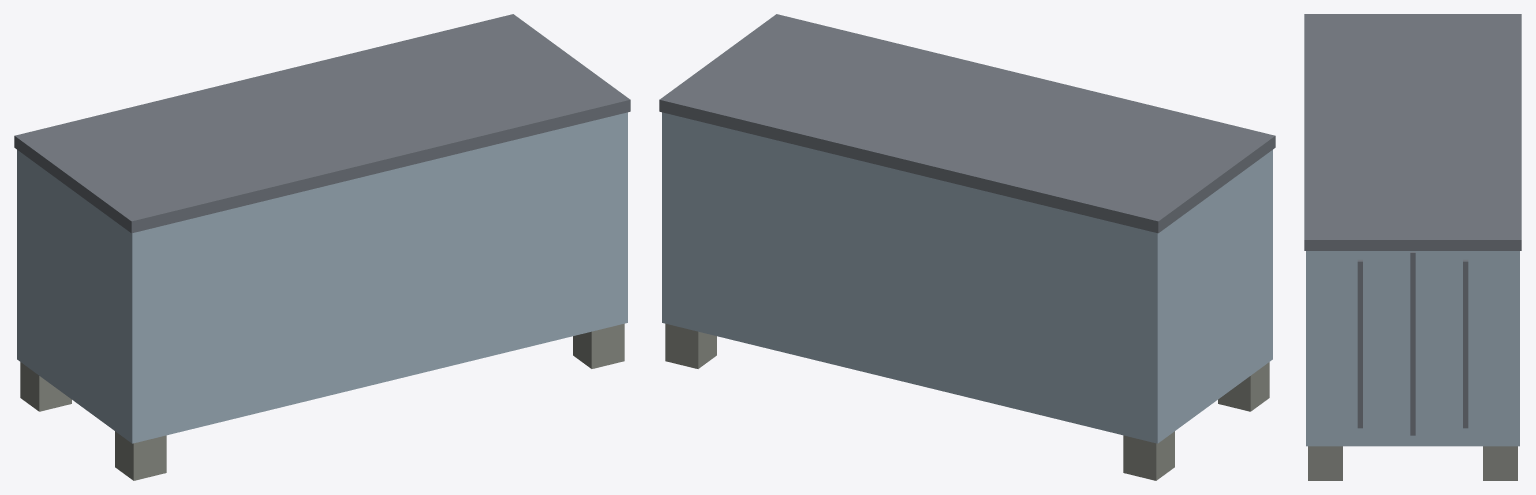
The model's file is site_clutter1.fbx.
The picture shows the model from 3 angles, left to right: view 1: azimuth 30°, elevation 25°; view 2: azimuth 150°, elevation 25°; view 3: azimuth 270°, elevation 25°; orthographic projection. The views are drawn at different scales.
Parts seen in each view (by area): view 1: a1022/0/site_clutter1; view 2: a1022/0/site_clutter1; view 3: a1022/0/site_clutter1.
Boxes of the visible parts, left/top/right/bottom form: a1022/0/site_clutter1: left=14, top=14, right=630, bottom=480; a1022/0/site_clutter1: left=659, top=14, right=1275, bottom=480; a1022/0/site_clutter1: left=1304, top=14, right=1521, bottom=480.
Size of the model in its own units: 6.13 by 3.06 by 2.48.
